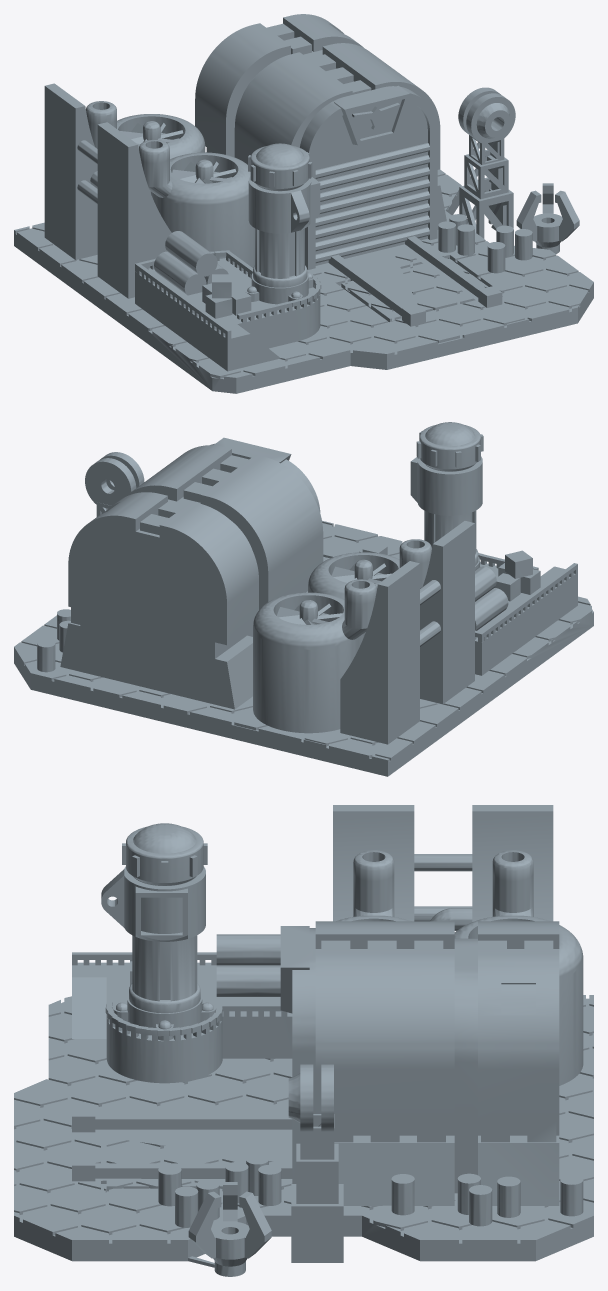
The model's file is allied-construction-yard.glb.
3 views of the same model, one above another, from view 1: azimuth 30°, elevation 25°; view 2: azimuth 150°, elevation 25°; view 3: azimuth 270°, elevation 25° (orthographic). The views are drawn at different scales.
Visible parts, largest first — view 1: allied-construction-yard-foundation-and-utility-plant, allied-construction-yard-fabrication-hall, allied-construction-yard-crane-turret; view 2: allied-construction-yard-foundation-and-utility-plant, allied-construction-yard-fabrication-hall, allied-construction-yard-crane-turret; view 3: allied-construction-yard-foundation-and-utility-plant, allied-construction-yard-fabrication-hall, allied-construction-yard-crane-turret.
Boxes of the visible parts, left/top/right/bottom form: allied-construction-yard-foundation-and-utility-plant: left=14, top=83, right=593, bottom=393; allied-construction-yard-fabrication-hall: left=195, top=14, right=502, bottom=326; allied-construction-yard-crane-turret: left=248, top=143, right=320, bottom=233; allied-construction-yard-foundation-and-utility-plant: left=14, top=452, right=593, bottom=776; allied-construction-yard-fabrication-hall: left=60, top=437, right=387, bottom=709; allied-construction-yard-crane-turret: left=410, top=422, right=483, bottom=515; allied-construction-yard-foundation-and-utility-plant: left=14, top=805, right=593, bottom=1276; allied-construction-yard-fabrication-hall: left=72, top=921, right=559, bottom=1215; allied-construction-yard-crane-turret: left=101, top=823, right=207, bottom=941.
Size of the model in its own units: 1 by 0.442 by 0.9209.
